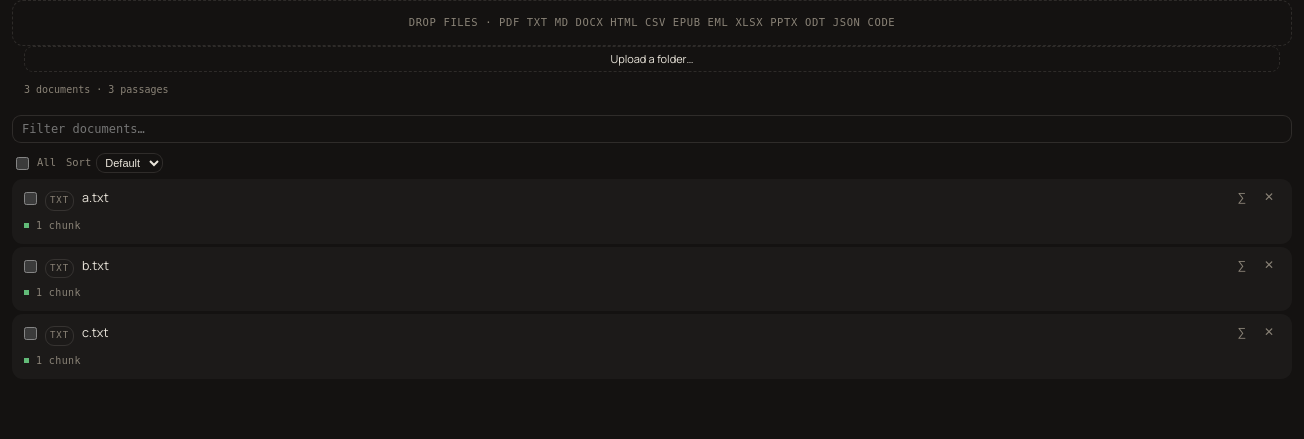
Test case: CorpusPanel › offers Compare only when exactly two documents are selected
Click the 1st checkbox with test id "corpus-select". click: (30,199)
box: [24, 192, 37, 205]
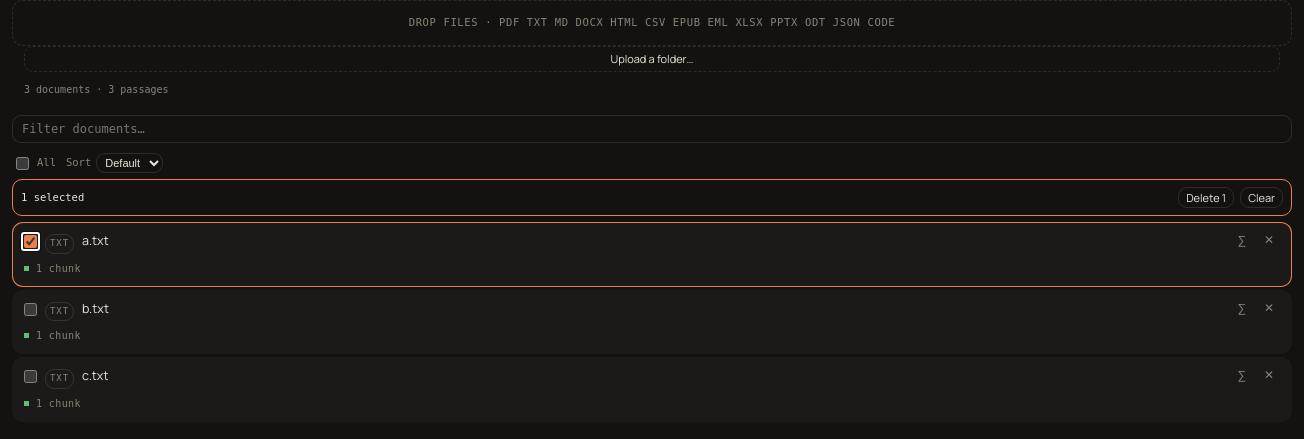
Click the 2nd checkbox with test id "corpus-select". click: (30,309)
box: [24, 303, 37, 316]
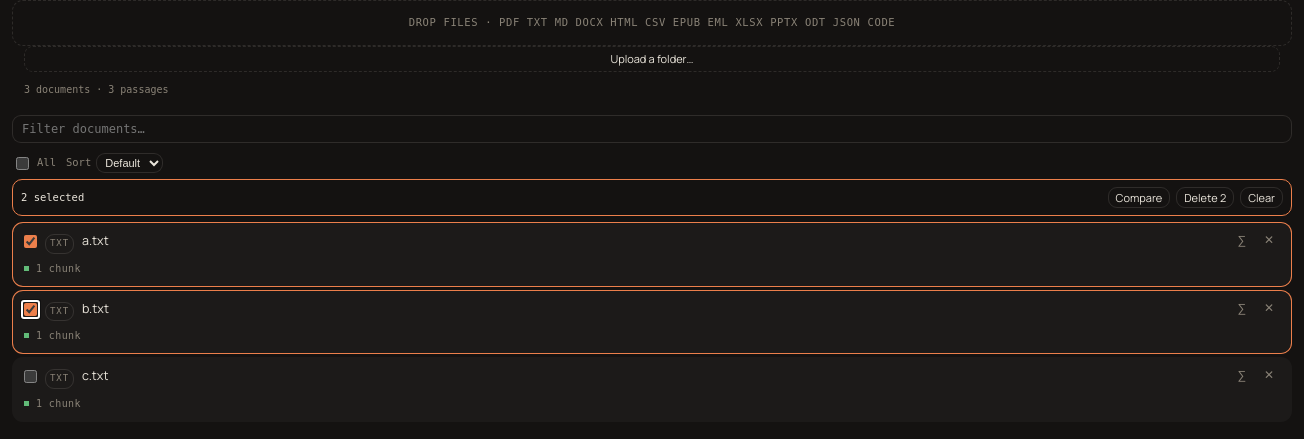
Click the button with test id "corpus-bulk-compare". click: (1139,198)
box: [1108, 187, 1170, 208]
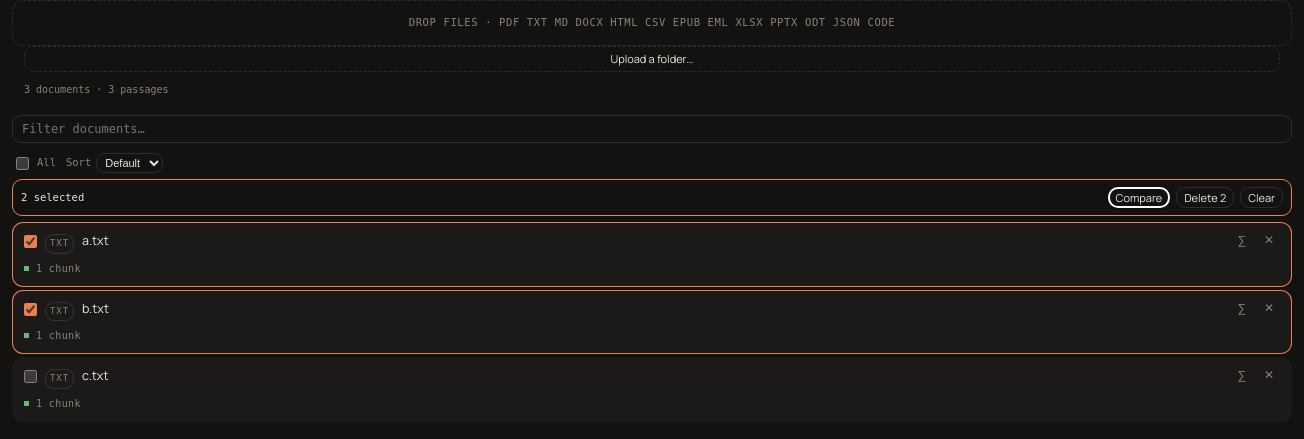
Click the 3rd checkbox with test id "corpus-select". click: (30,377)
box: [24, 370, 37, 383]
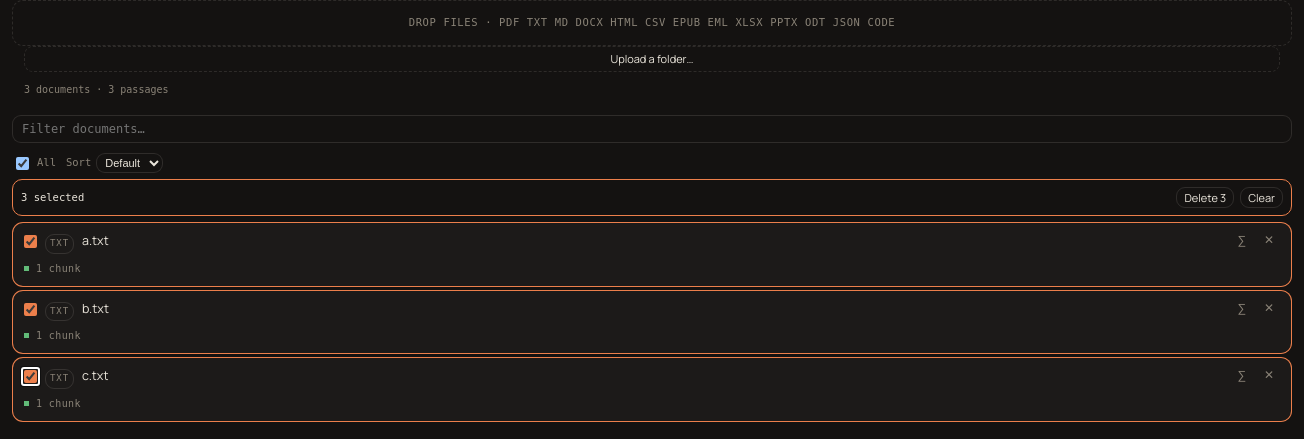
Result: the button with test id "corpus-bulk-compare" is gone
